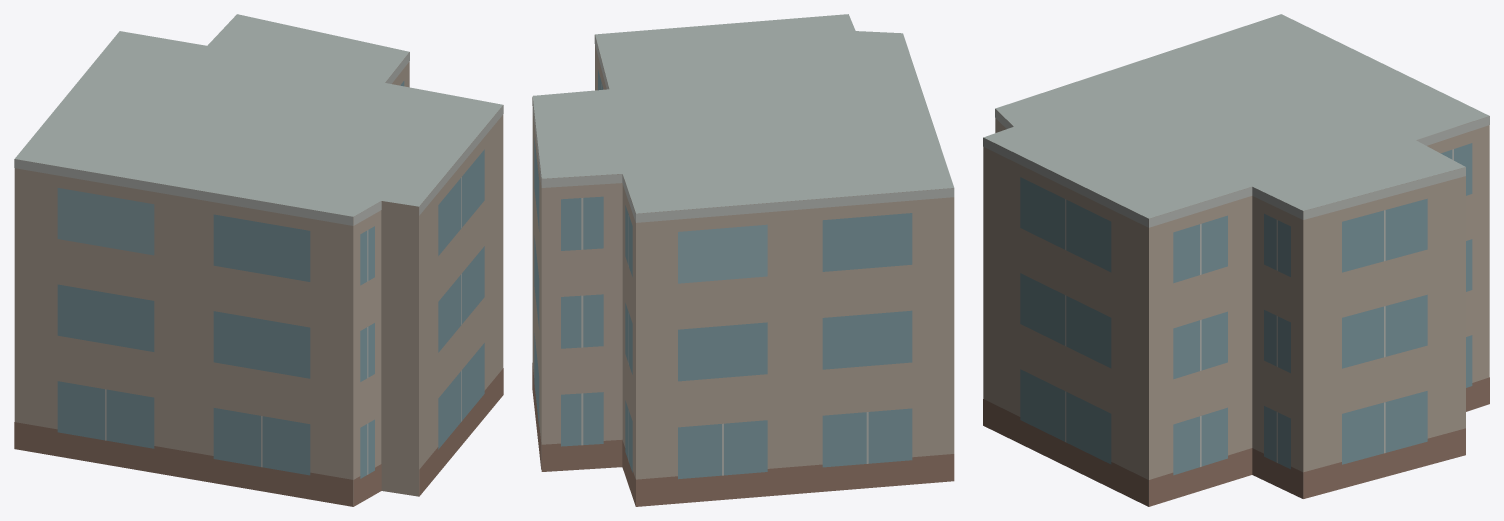
The model's file is survey-upis-32748189.glb.
The picture shows the model from 3 angles, left to right: view 1: azimuth 30°, elevation 25°; view 2: azimuth 150°, elevation 25°; view 3: azimuth 270°, elevation 25°; orthographic projection.
Parts seen in each view (by area): view 1: survey-upis-32748189.tmp; view 2: survey-upis-32748189.tmp; view 3: survey-upis-32748189.tmp.
Boxes of the visible parts, x1=… form: survey-upis-32748189.tmp: x1=14, y1=14, x2=503, y2=506; survey-upis-32748189.tmp: x1=532, y1=14, x2=954, y2=506; survey-upis-32748189.tmp: x1=983, y1=14, x2=1489, y2=506.
Bounding box in the file's own units: 11.74 × 7.7 × 12.27.
